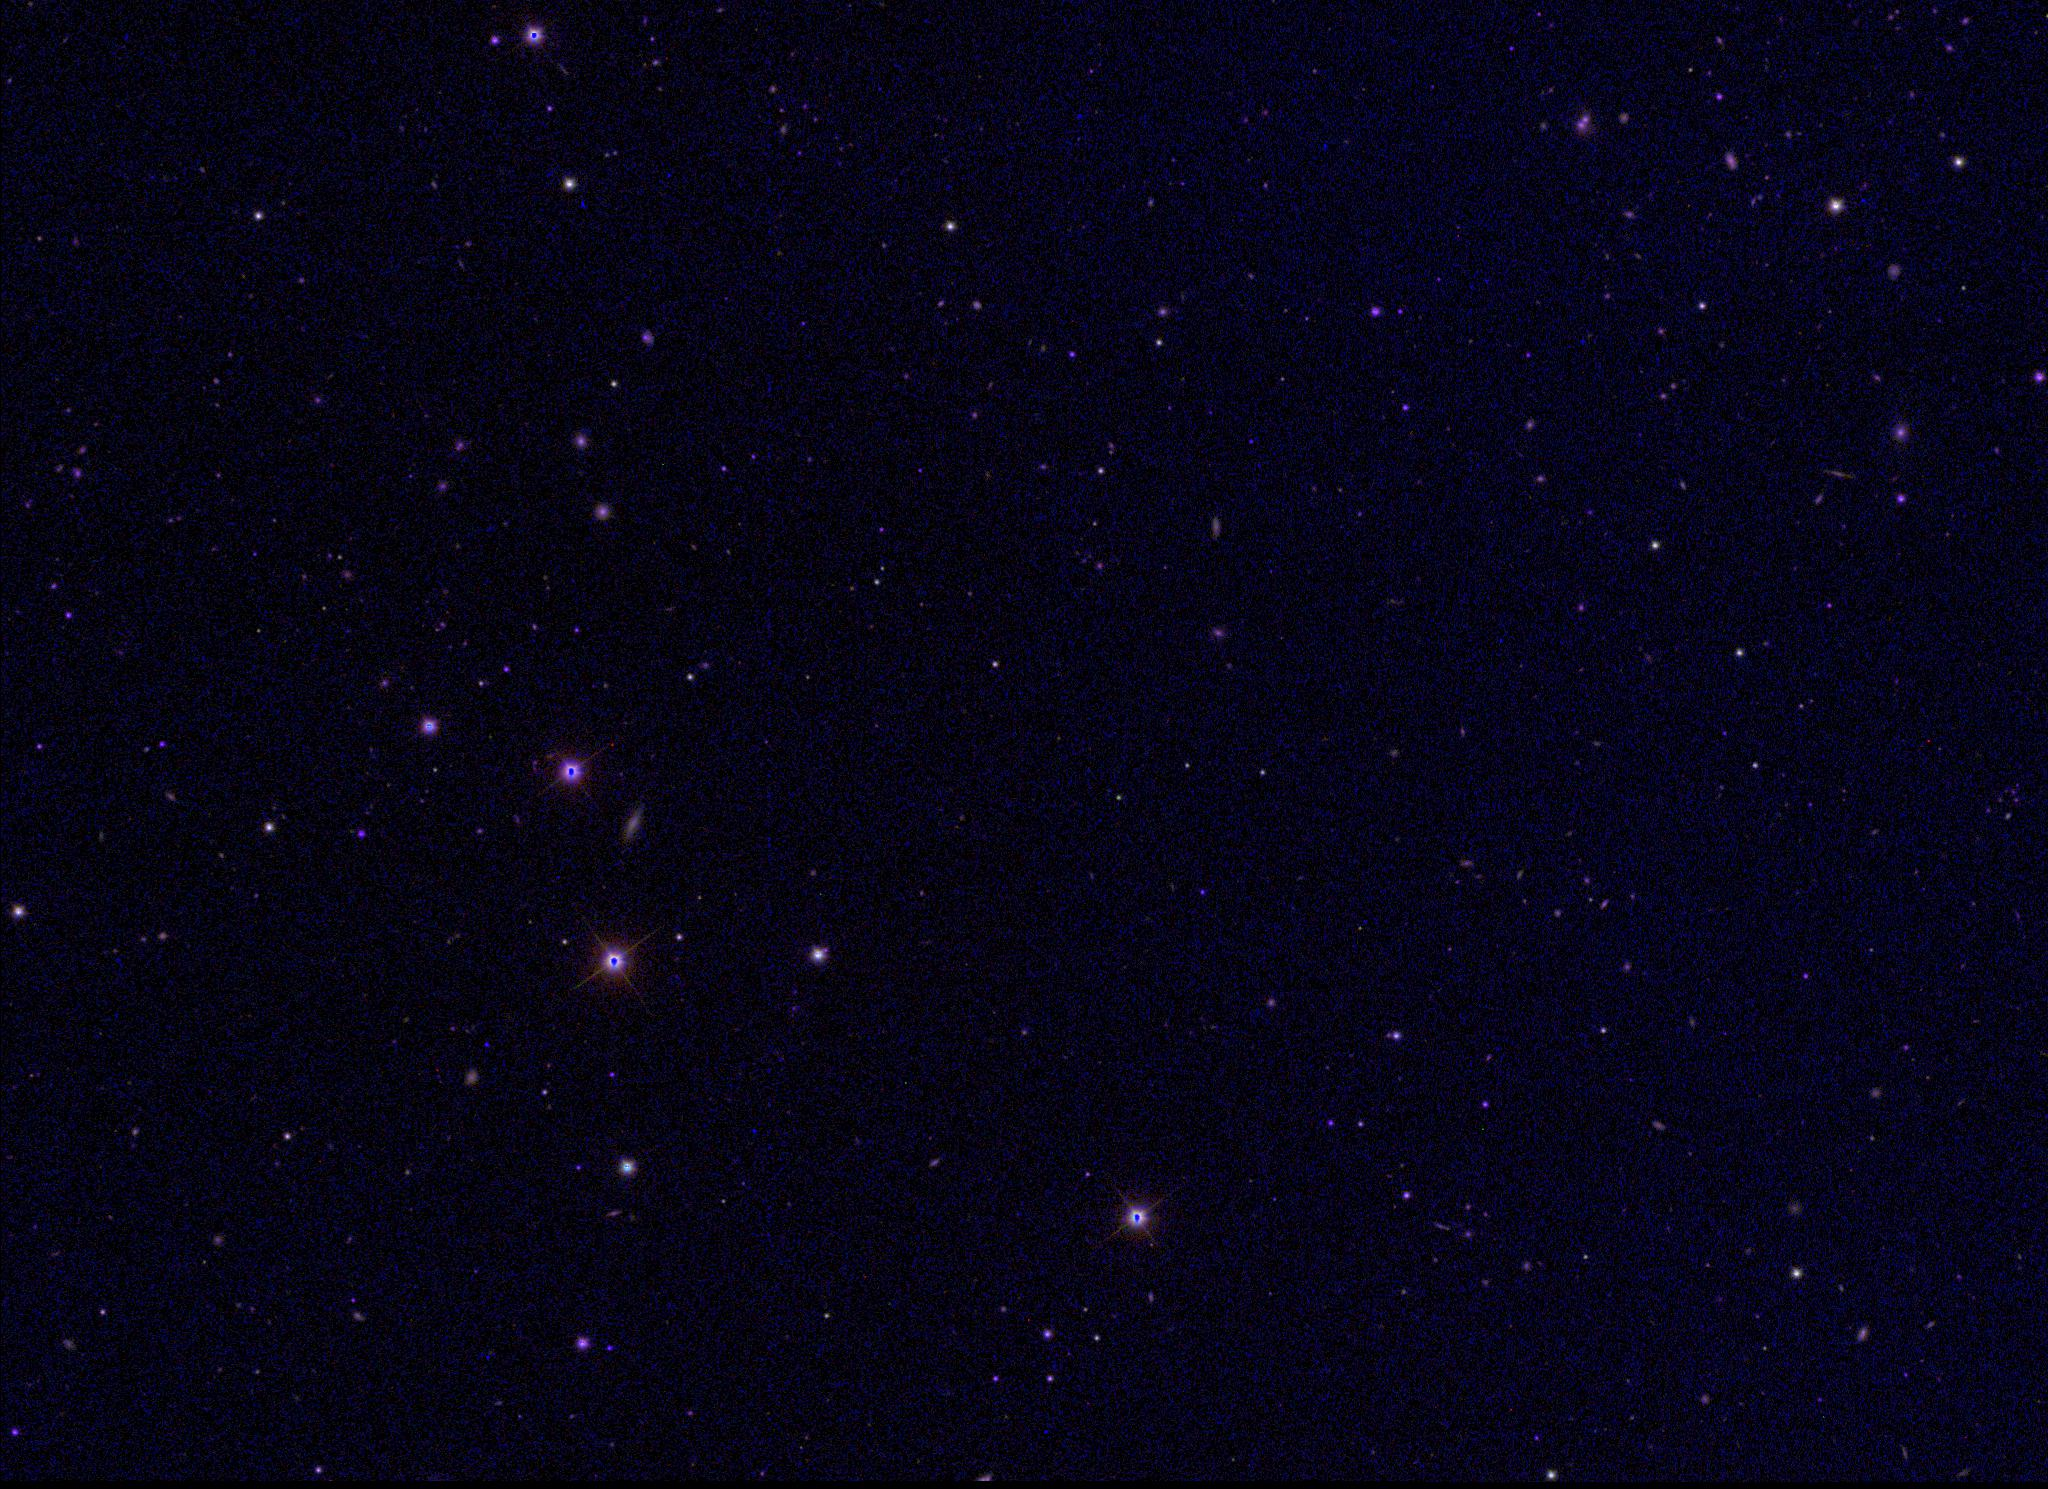L: (480, 1036, 495, 1050)
